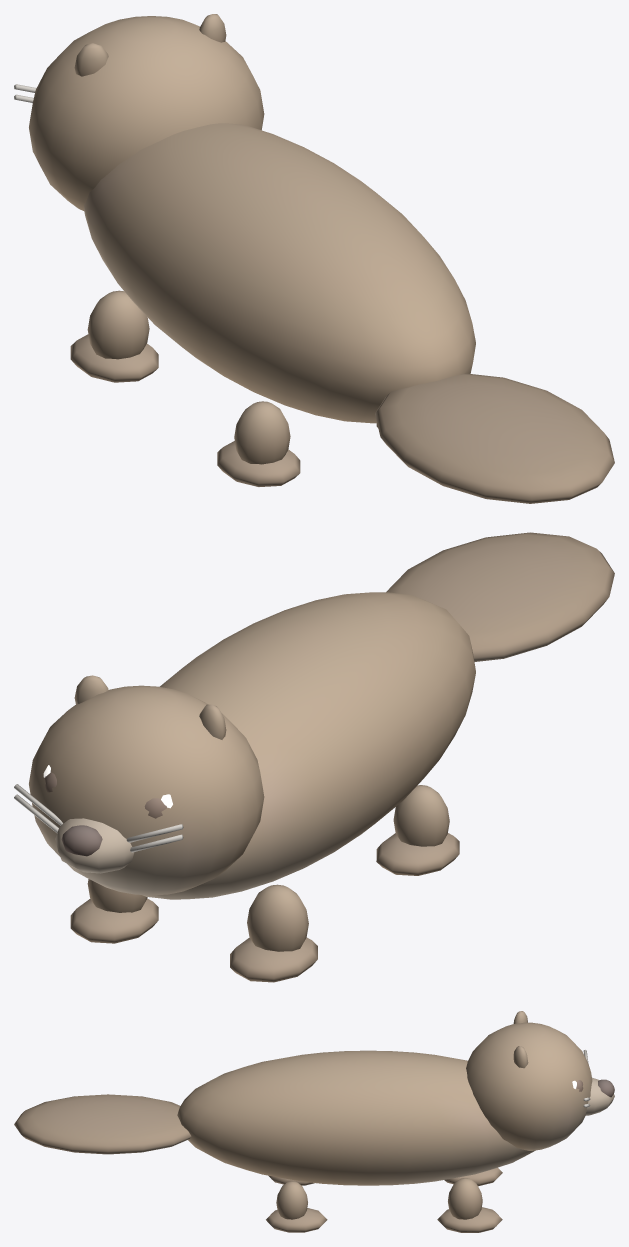
File: pebble_base.glb
3 views of the same model, one above another, from view 1: azimuth 30°, elevation 25°; view 2: azimuth 150°, elevation 25°; view 3: azimuth 270°, elevation 25° (orthographic). The views are drawn at different scales.
Parts seen in each view (by area): view 1: Body, Head, Tail, LegFL, LegBL, FootFL, FootBL, EarL; view 2: Body, Head, Tail, LegFL, LegBL, FootFR, FootFL, FootBL, Snout, LegFR, Nose, EarL (+1 smaller); view 3: Body, Head, Tail, LegFR, FootFR, LegBR, FootBR, Snout, FootFL.
Boxes of the visible parts, x1,y1,x2,y2 form: Body: (84, 123, 475, 423); Head: (29, 16, 264, 210); Tail: (375, 373, 614, 503); LegFL: (87, 290, 149, 359); LegBL: (234, 401, 290, 464); FootFL: (70, 334, 158, 382); FootBL: (217, 441, 300, 486); EarL: (74, 43, 108, 76); Body: (142, 592, 475, 899); Head: (29, 685, 264, 895); Tail: (386, 532, 614, 661); LegFL: (247, 884, 308, 951); LegBL: (393, 785, 449, 846); FootFR: (70, 898, 158, 943); FootFL: (230, 937, 317, 982); FootBL: (376, 833, 459, 875); Snout: (55, 818, 134, 873); LegFR: (87, 879, 147, 912); Nose: (61, 825, 102, 856); EarL: (199, 704, 226, 739); Body: (177, 1050, 535, 1185); Head: (466, 1022, 592, 1150); Tail: (14, 1094, 191, 1154); LegFR: (448, 1178, 482, 1219); FootFR: (437, 1207, 502, 1232); LegBR: (276, 1181, 307, 1219); FootBR: (266, 1208, 327, 1232); Snout: (586, 1077, 614, 1115); FootFL: (444, 1167, 502, 1186).
Size of the model in its own units: 0.4914 by 0.5893 by 1.82.
